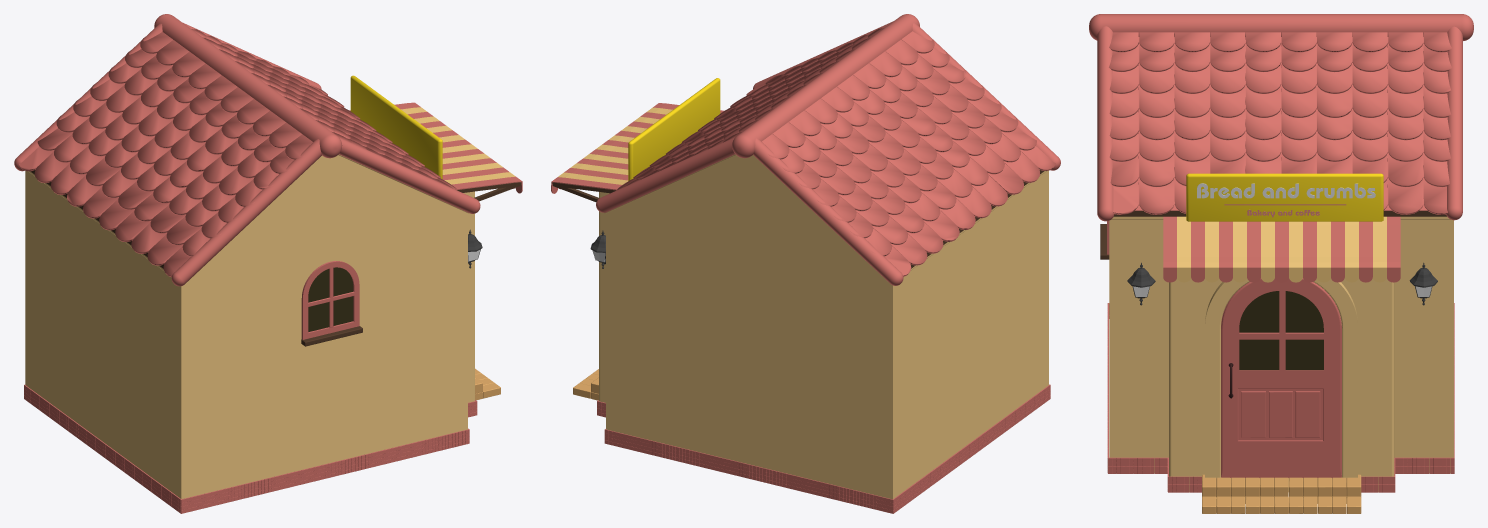
The model's file is outsidebakery.glb.
3 renders of one model, left to right at view 1: azimuth 30°, elevation 25°; view 2: azimuth 150°, elevation 25°; view 3: azimuth 270°, elevation 25°, orthographic. The views are drawn at different scales.
Visible parts, largest first — view 1: House, Cube.001, Cube, Cylinder, Cube.047, Cube.002, Plane, Cylinder.003, Cylinder.004, Cube.043, Cube.016, Cube.025 (+6 smaller); view 2: House, Cube.001, Cube, Cylinder, Cube.047, Plane, Cylinder.002, Cylinder.001, Cube.041, Cube.014, Cube.023, Cube.032 (+5 smaller); view 3: Cube, House, Door, Plane, Cube.047, Cylinder, Steps, Cylinder.004, Cylinder.001, Steps.002, Text, Door.001 (+1 smaller).
Boxes of the visible parts, <box> form: House: <box>25,154,474,499</box>; Cube.001: <box>19,32,312,276</box>; Cube: <box>191,29,456,189</box>; Cylinder: <box>154,14,342,158</box>; Cube.047: <box>350,75,442,179</box>; Cube.002: <box>301,261,359,339</box>; Plane: <box>349,102,522,193</box>; Cylinder.003: <box>171,139,321,286</box>; Cylinder.004: <box>339,137,480,213</box>; Cube.043: <box>181,429,468,503</box>; Cube.016: <box>181,440,468,513</box>; Cube.025: <box>181,437,468,510</box>; House: <box>599,154,1048,499</box>; Cube.001: <box>762,31,1055,276</box>; Cube: <box>617,28,883,189</box>; Cylinder: <box>732,14,919,158</box>; Cube.047: <box>628,78,720,180</box>; Plane: <box>551,103,724,193</box>; Cylinder.002: <box>753,138,903,285</box>; Cylinder.001: <box>596,137,735,212</box>; Cube.041: <box>605,429,893,503</box>; Cube.014: <box>605,440,893,513</box>; Cube.023: <box>605,437,893,510</box>; Cube.032: <box>605,433,893,506</box>; Cube: <box>1109,32,1451,214</box>; House: <box>1109,37,1453,491</box>; Door: <box>1205,278,1357,477</box>; Plane: <box>1163,216,1400,282</box>; Cube.047: <box>1186,173,1383,221</box>; Cylinder: <box>1089,14,1473,40</box>; Steps: <box>1202,474,1361,496</box>; Cylinder.004: <box>1097,26,1114,221</box>; Cylinder.001: <box>1446,26,1462,220</box>; Steps.002: <box>1202,497,1361,513</box>; Text: <box>1197,183,1375,198</box>; Door.001: <box>1239,332,1323,339</box>.
Size of the model in its own units: 8.33 by 7.34 by 6.7.
